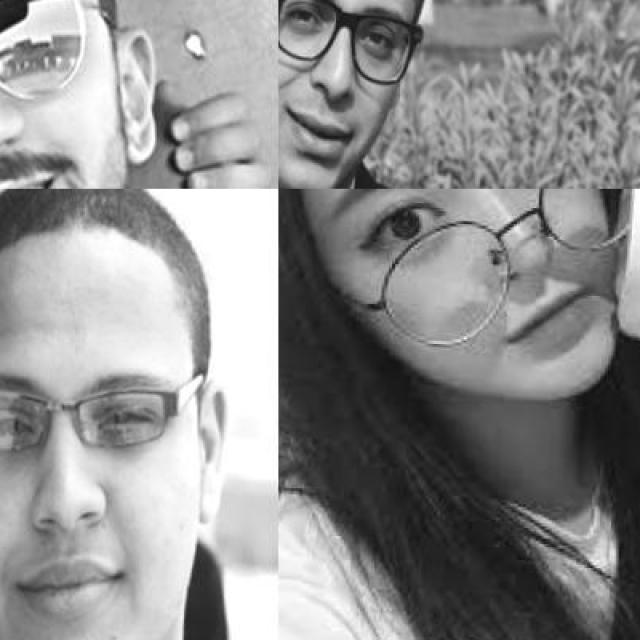Glasses: (349, 189, 640, 365), (0, 330, 224, 472), (0, 0, 126, 168), (278, 0, 446, 88)
